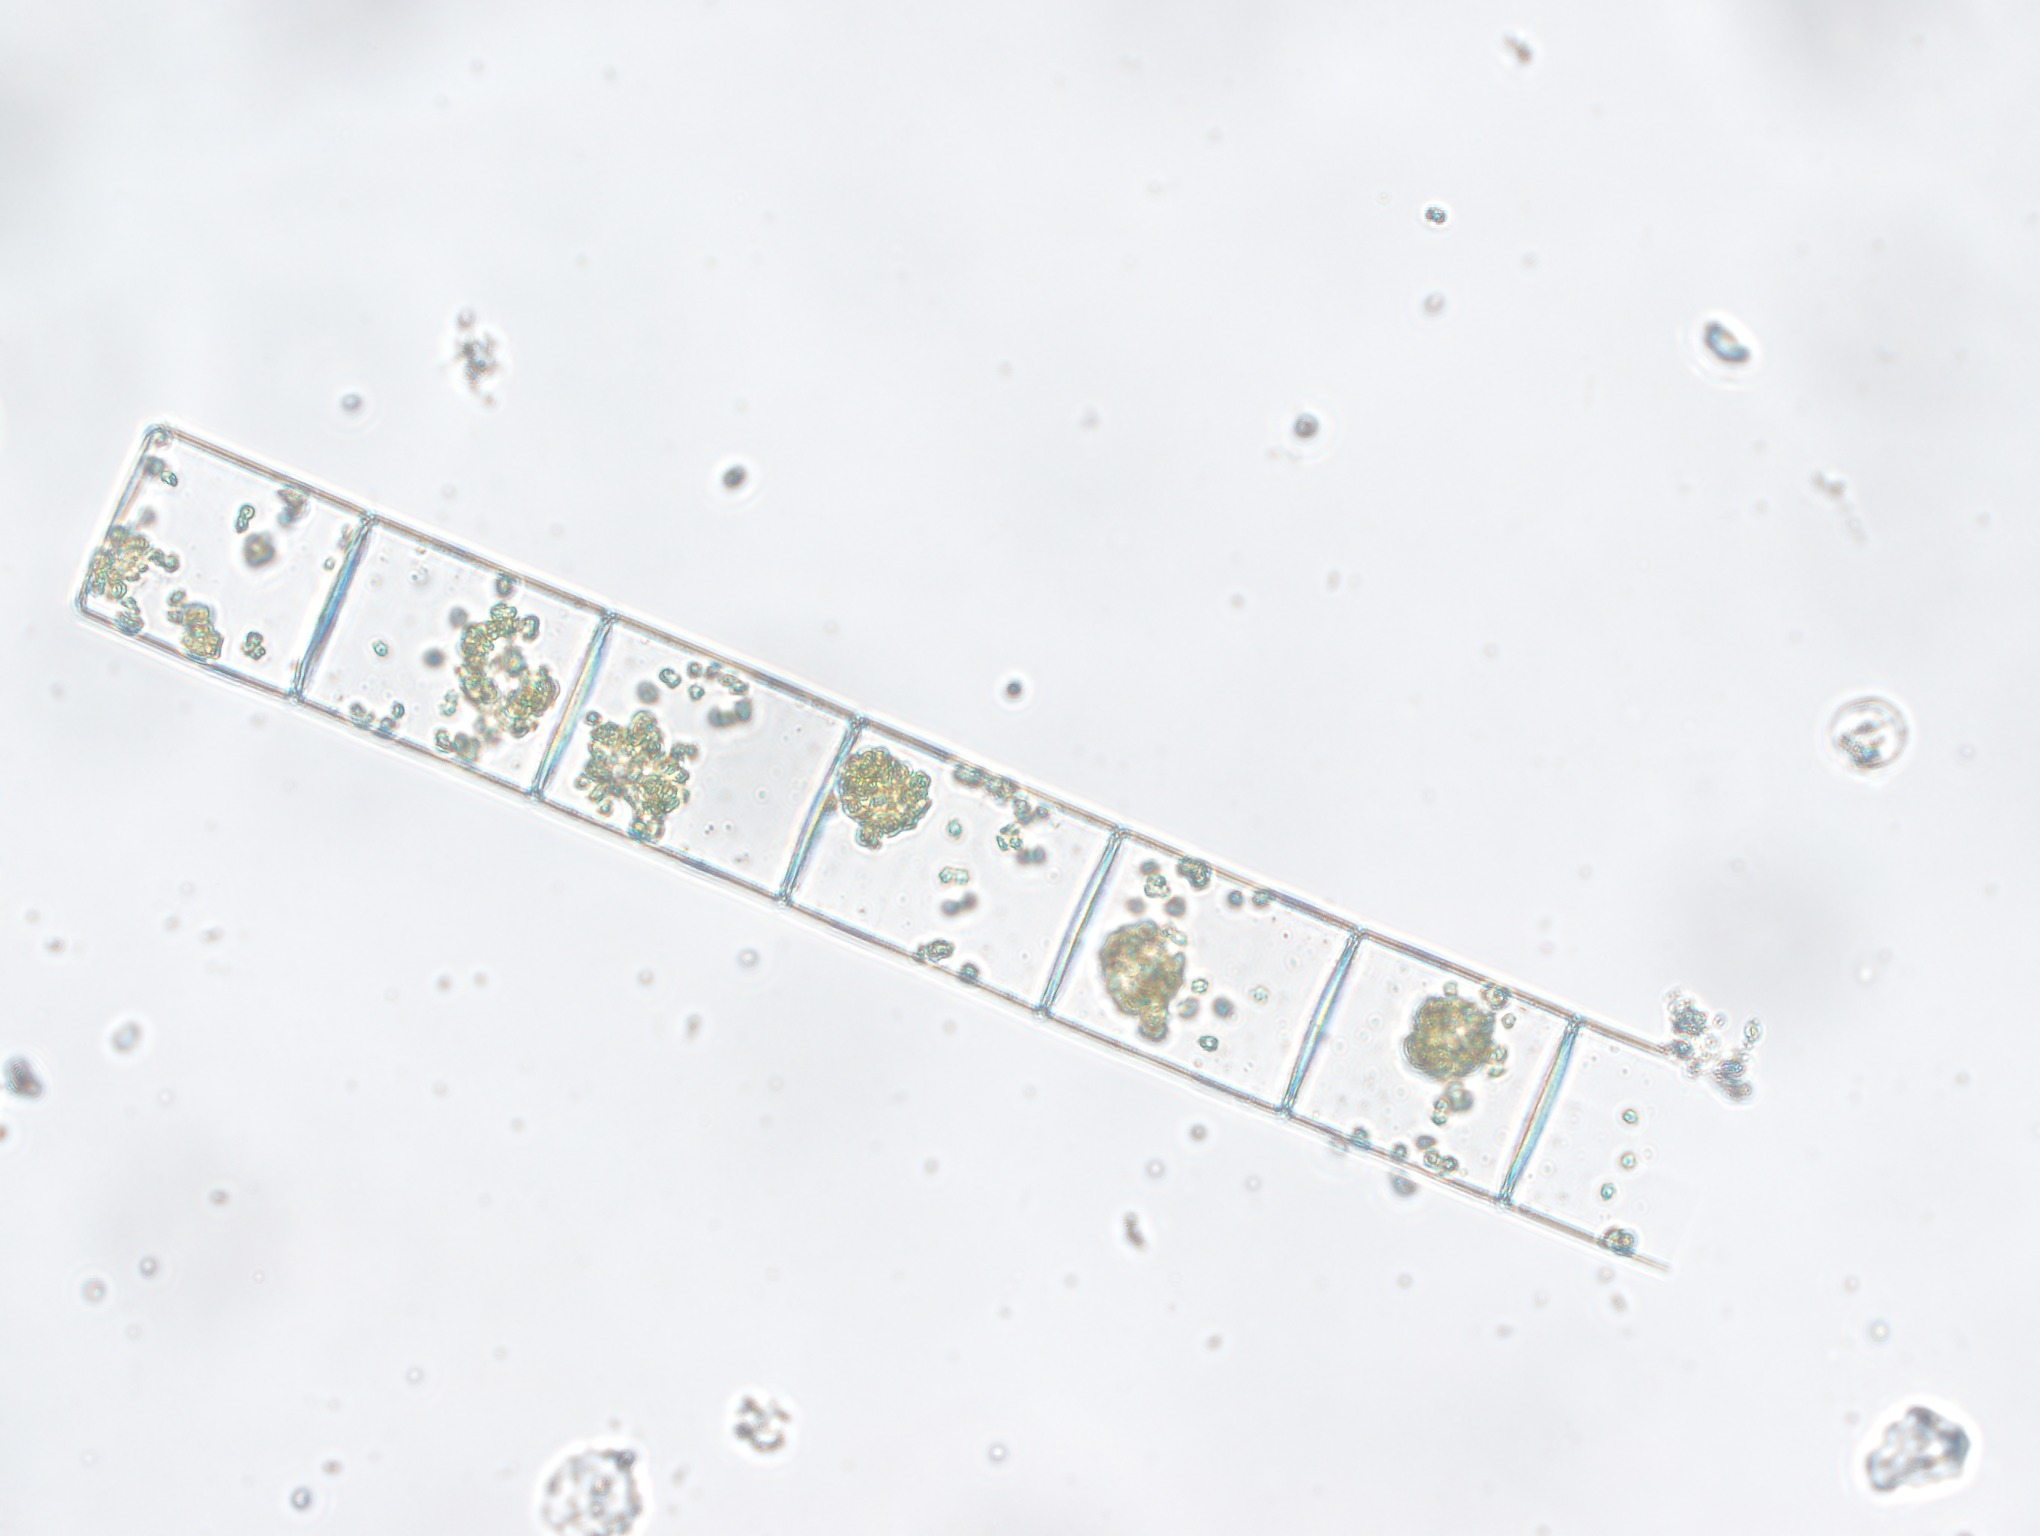guinardia flaccida: (69, 395, 1688, 1279)
